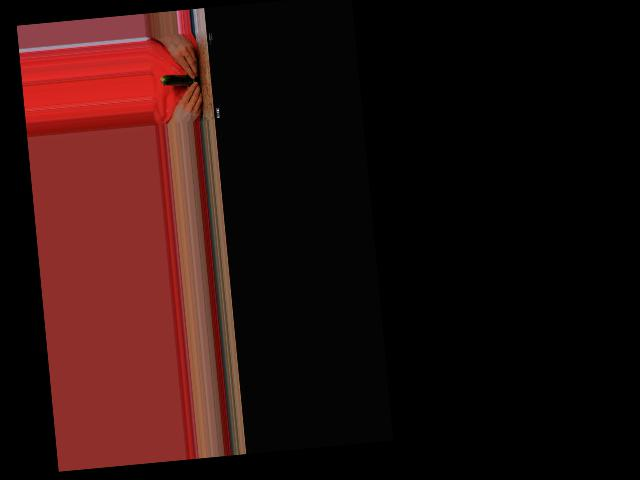cucumber: (160, 71, 200, 87)
